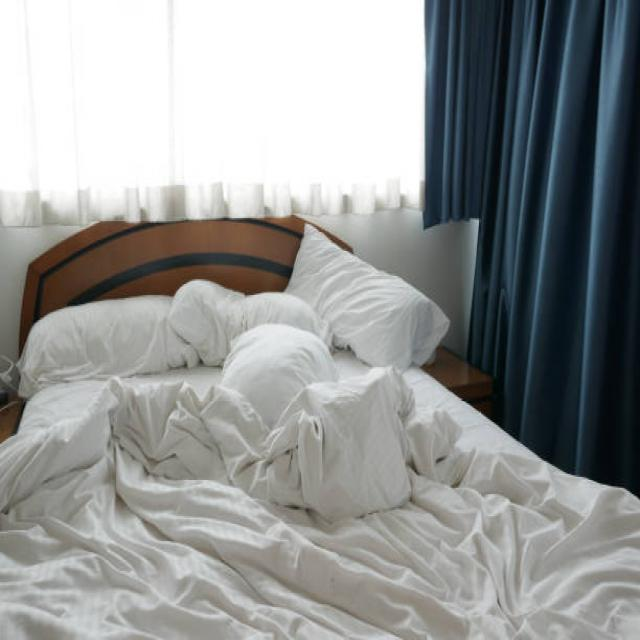bed: (21, 228, 640, 640)
